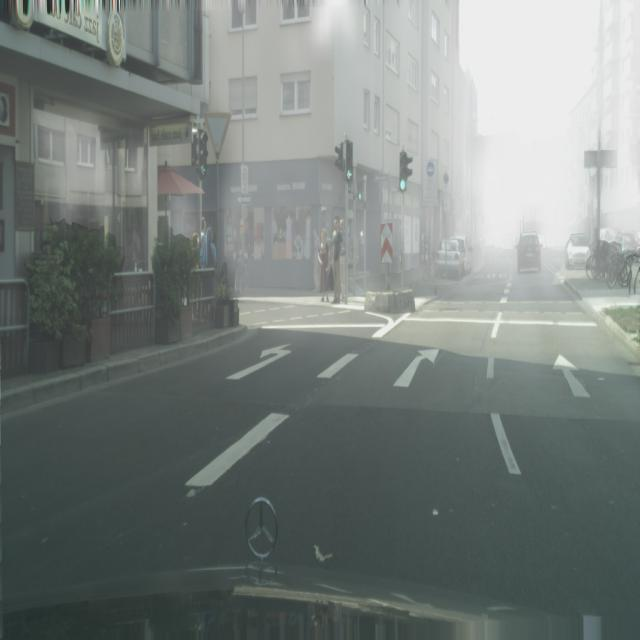bus: (330, 216, 344, 303), (318, 226, 330, 302), (200, 219, 216, 268)
person: (434, 240, 462, 280), (517, 232, 542, 272), (449, 234, 472, 274), (565, 233, 590, 269)
truck: (585, 242, 608, 281), (234, 249, 249, 294)
